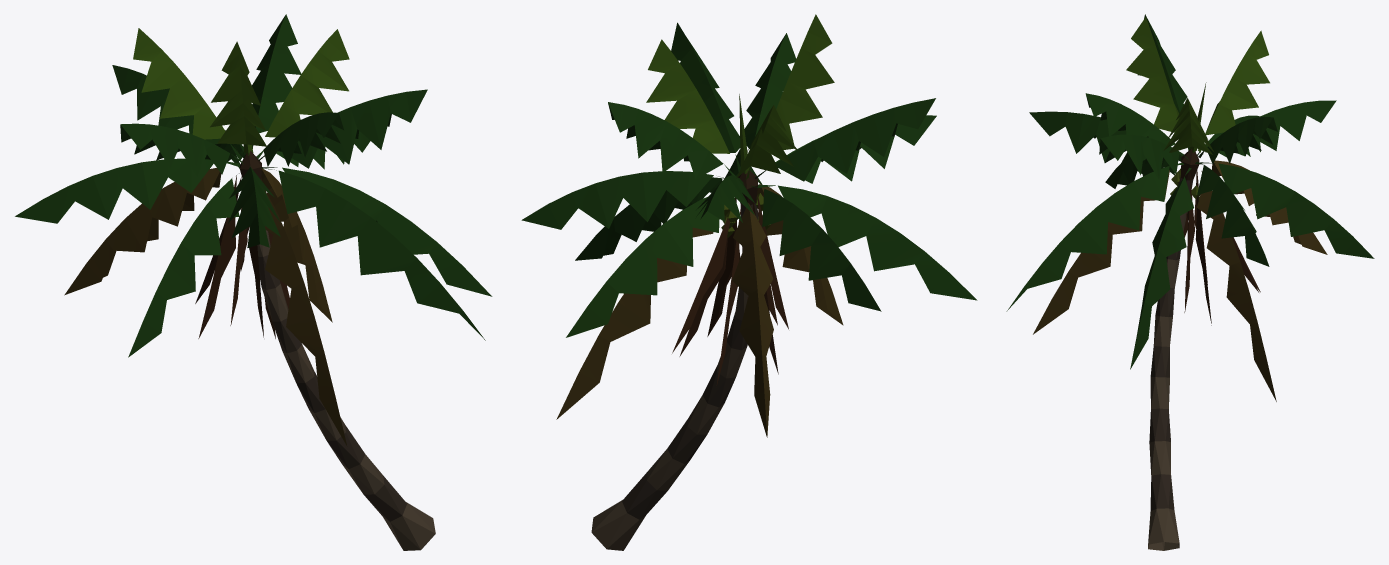
Rendered from SM_Palm_Coco_B.fbx.
3 renders of one model, left to right at view 1: azimuth 30°, elevation 25°; view 2: azimuth 150°, elevation 25°; view 3: azimuth 270°, elevation 25°, orthographic. The views are drawn at different scales.
Parts seen in each view (by area): view 1: SM_Palm_Coco_B_LOD0; view 2: SM_Palm_Coco_B_LOD0; view 3: SM_Palm_Coco_B_LOD0.
Boxes of the visible parts, x1,y1,x2,y2 form: SM_Palm_Coco_B_LOD0: [15, 14, 492, 550]; SM_Palm_Coco_B_LOD0: [521, 14, 977, 550]; SM_Palm_Coco_B_LOD0: [1006, 14, 1374, 550].
Bounding box in the file's own units: 764 × 759 × 1052.
